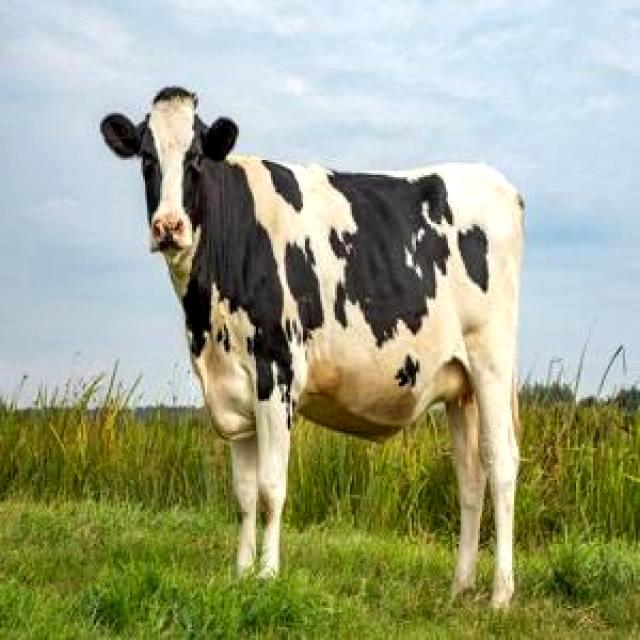COW: (101, 88, 524, 608)
